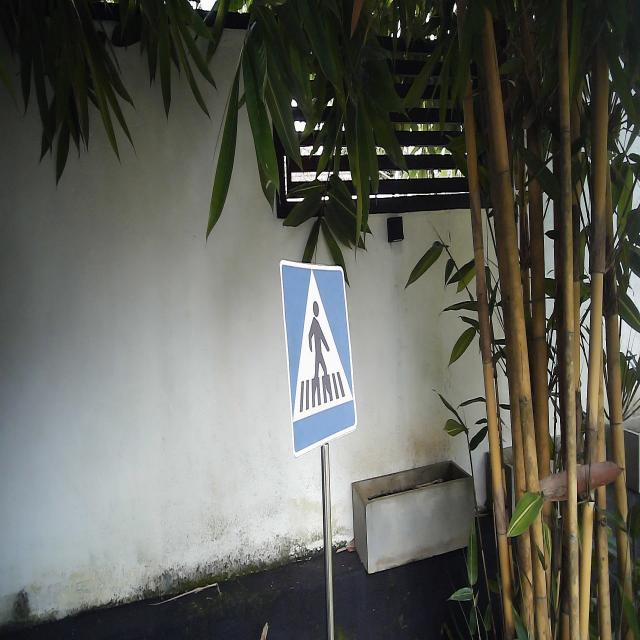crosswalk_sign: (278, 258, 359, 458)
